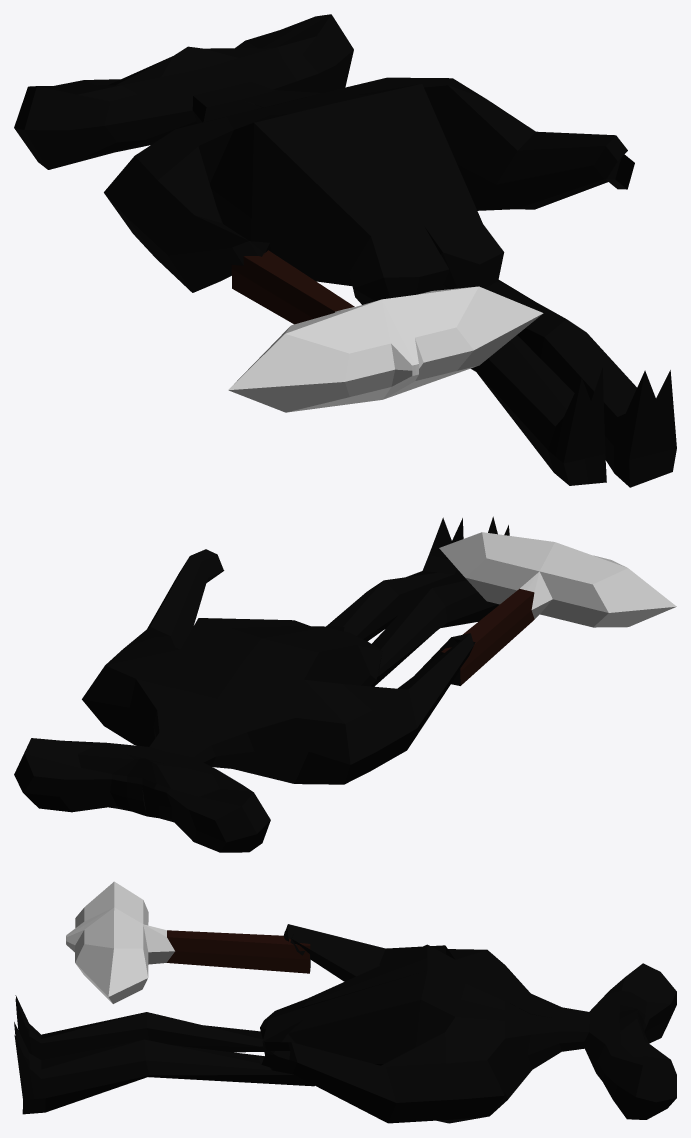
File: Giant3d.obj
The picture shows the model from 3 angles, top to bottom: view 1: azimuth 30°, elevation 25°; view 2: azimuth 150°, elevation 25°; view 3: azimuth 270°, elevation 25°; orthographic projection. The views are drawn at different scales.
Parts seen in each view (by area): view 1: Cube; view 2: Cube; view 3: Cube.
Part boxes in pixels (box(x1,y1,x2,y2)): Cube: box(14, 14, 676, 487); Cube: box(14, 516, 676, 852); Cube: box(14, 881, 676, 1123).
Size of the model in its own units: 1.16 by 0.3907 by 1.77.
